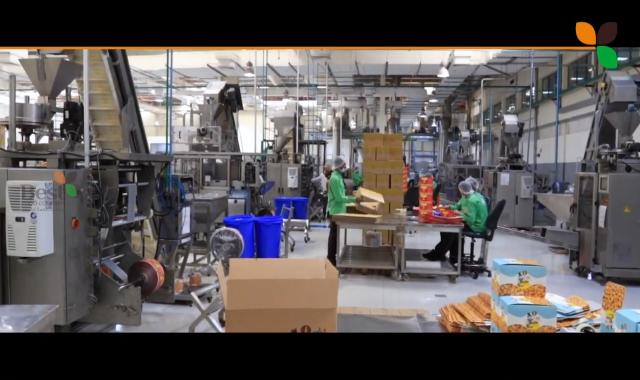hairnet: (332, 156, 346, 170), (461, 180, 473, 195)
